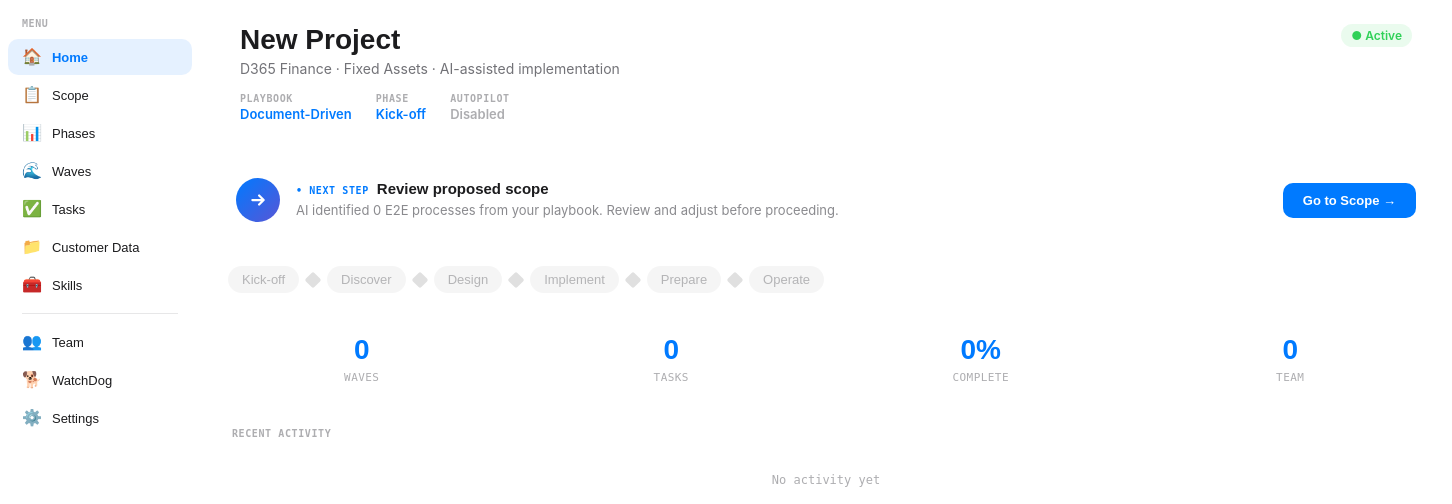
Test: DashboardContent › navigates to phases page via sidebar
What coordinates should you click on to do the following:
click the button with test id "sidebar-nav-phases"
I would click on:
 (100, 133)
Its box is [8,115,192,151].
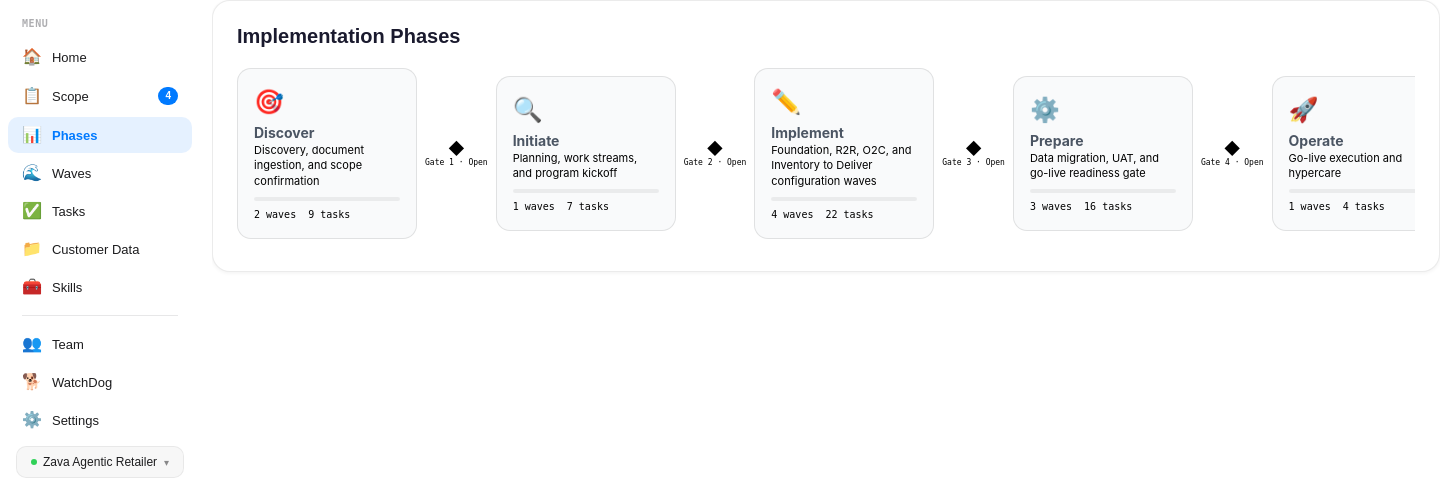
Expected: the element with test id "phases-page" is shown, [212,0,1440,272]
